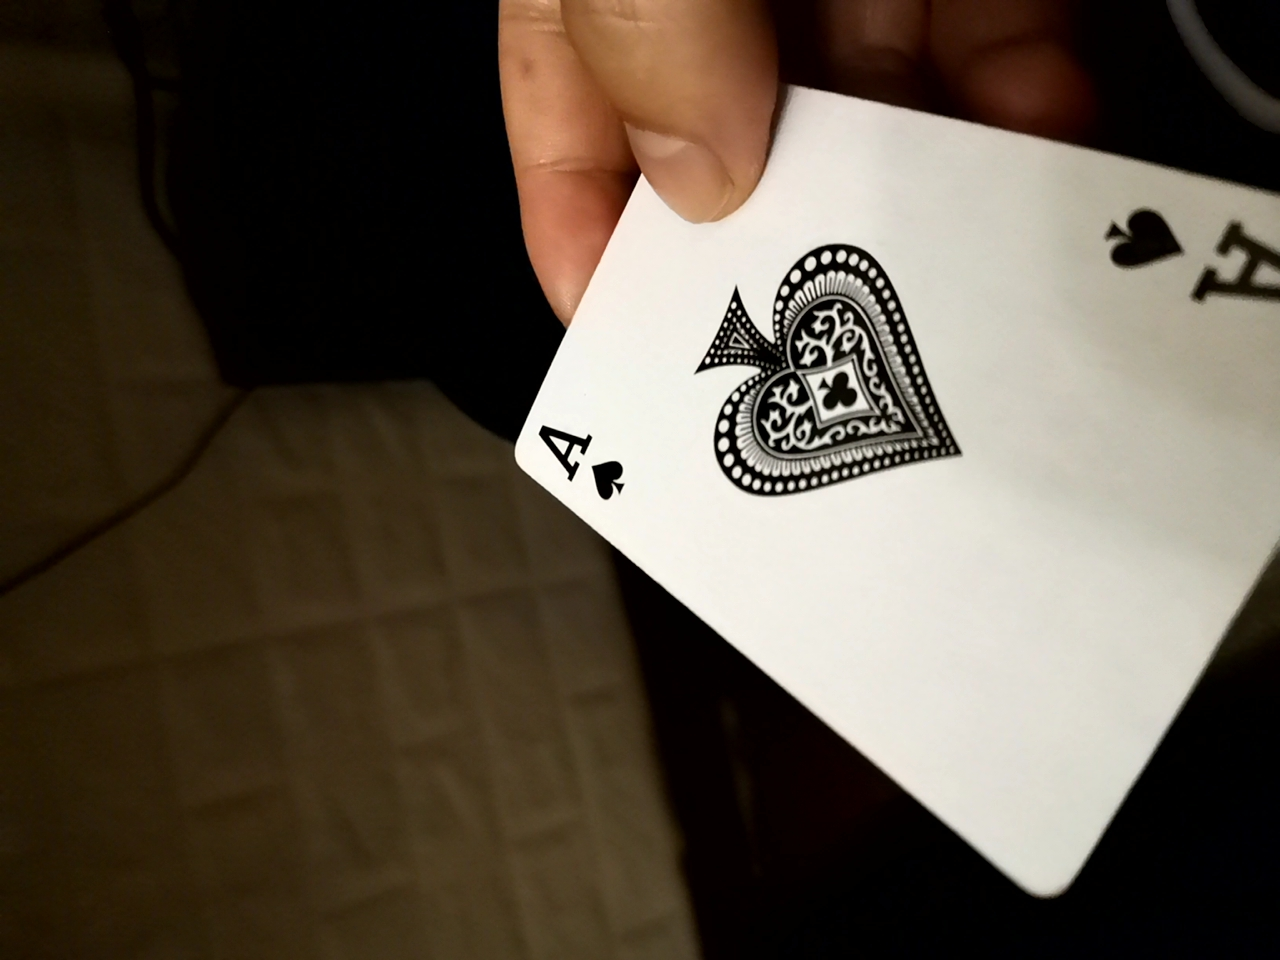ht a: (486, 64, 1247, 892)
